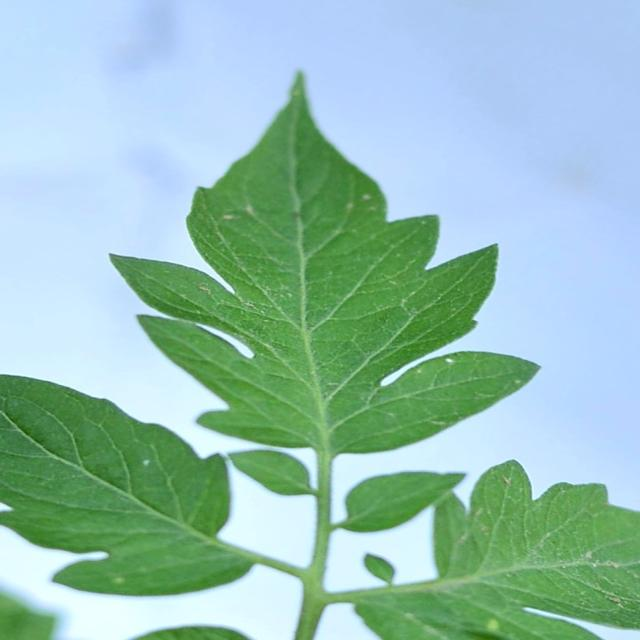healthy: (107, 64, 553, 501), (0, 368, 260, 599), (327, 458, 640, 640)
